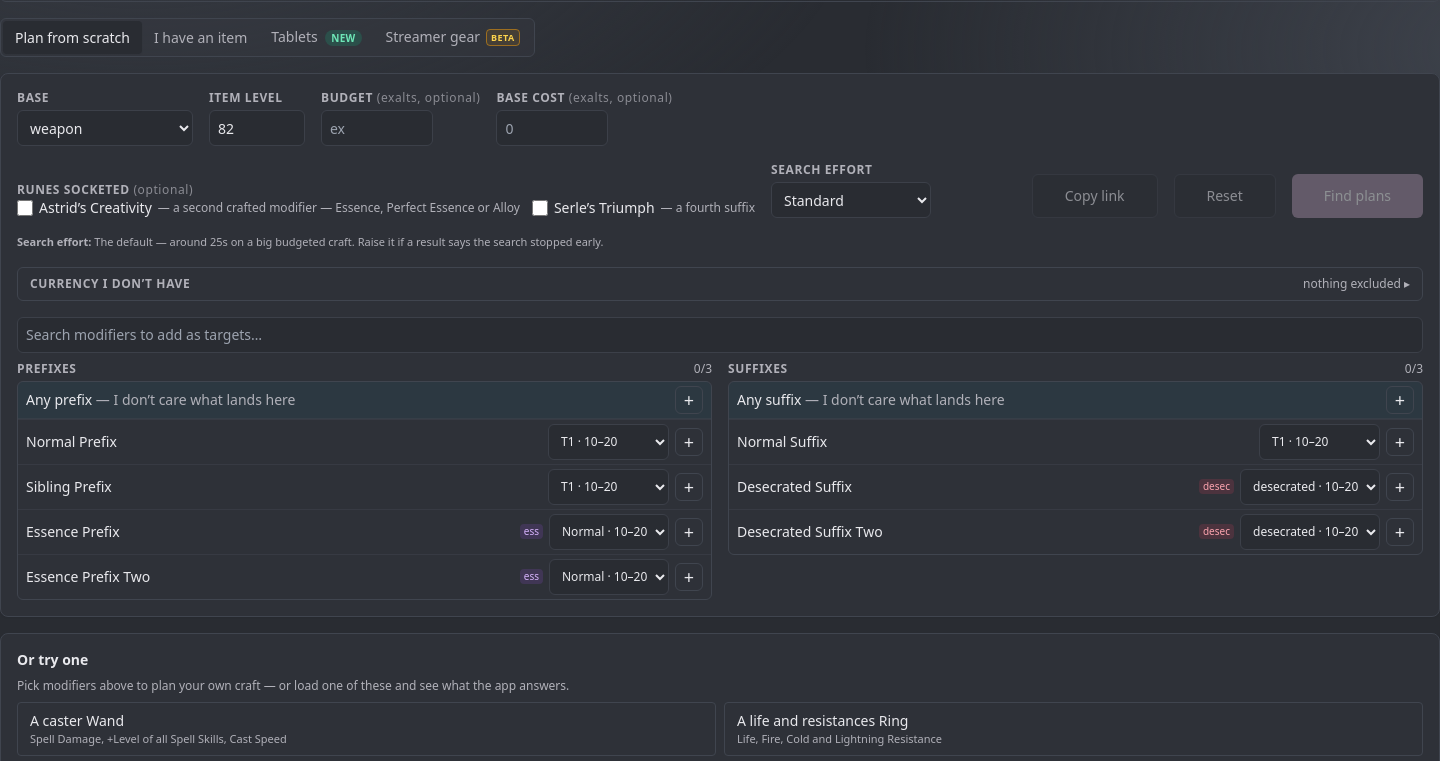
Scenario: EngineLab — the empty state gives the real reason › explains the Rare prerequisite for a lone desecrated target
Expected: the field with placeholder "Search modifiers to add as targets…" is shown, [17,317,1423,353]
What coordinates should you click on to do the following:
click the 6th button "+"
I would click on:
 (1400, 487)
Its box is [1386,473,1414,501].
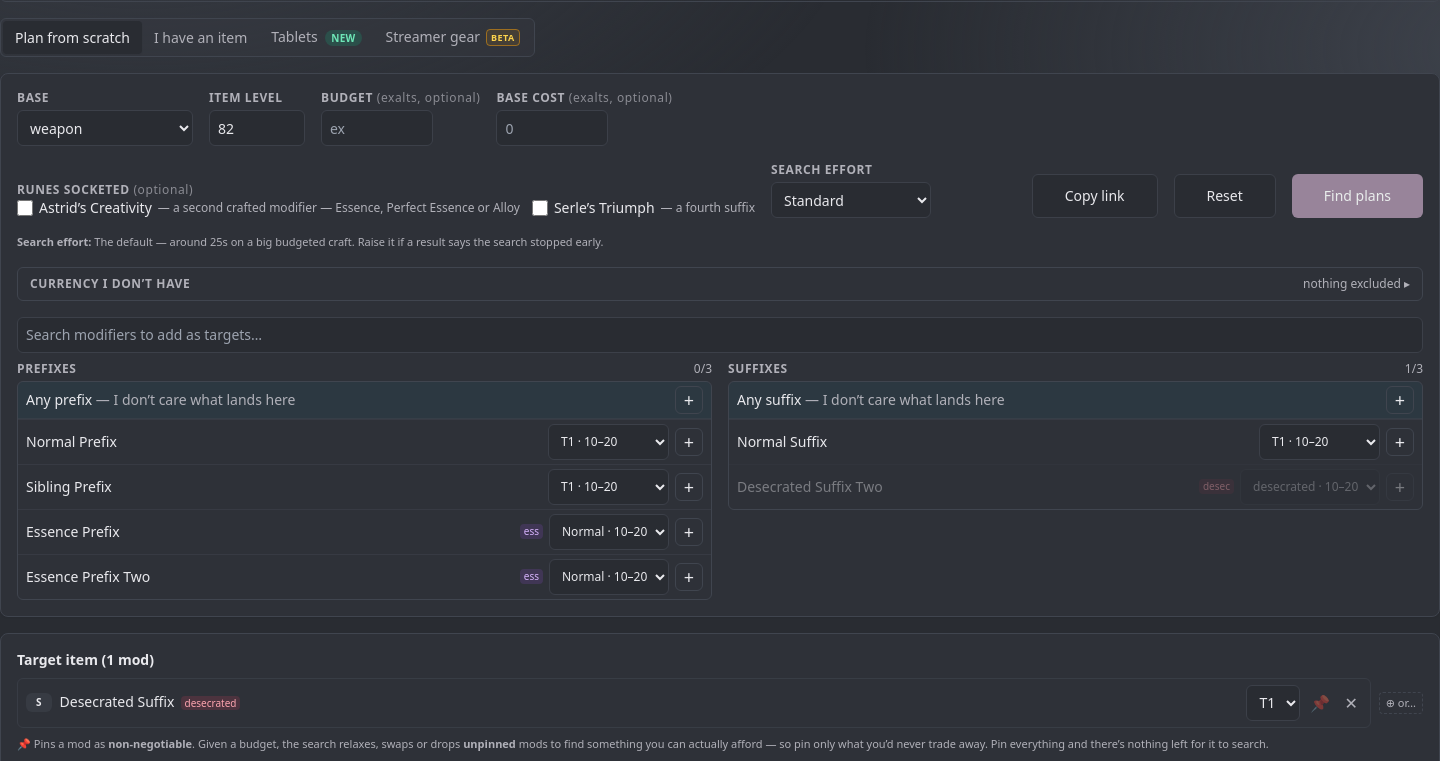
What coordinates should you click on to do the following:
click the button "Find plans"
I would click on:
 (1357, 196)
Its box is [1292,174,1423,218].
(page scrolled)
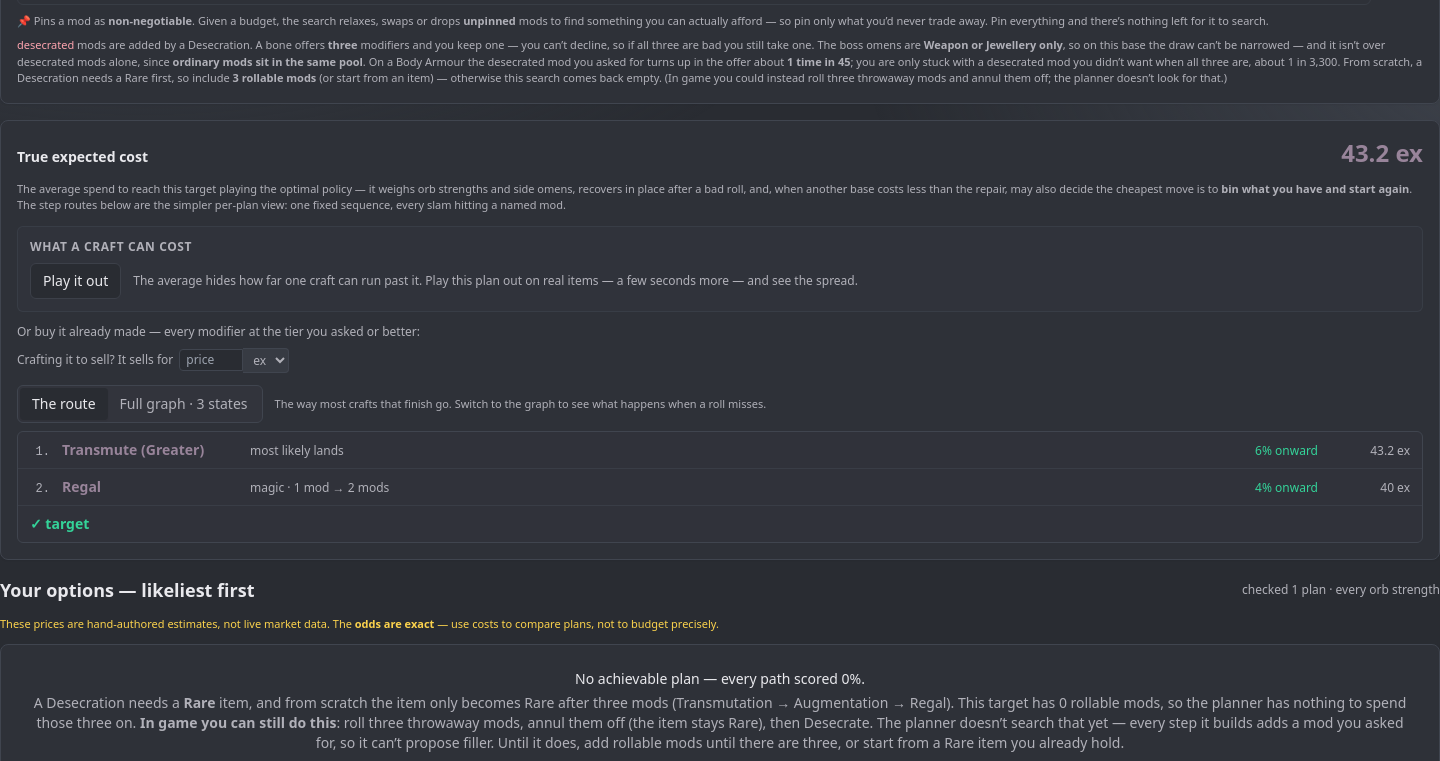
Now the text "nothing to spend those three on" is shown, box [36,693,1406,732]
Now the text "In game you can still do this" is shown, box [140,713,336,732]
